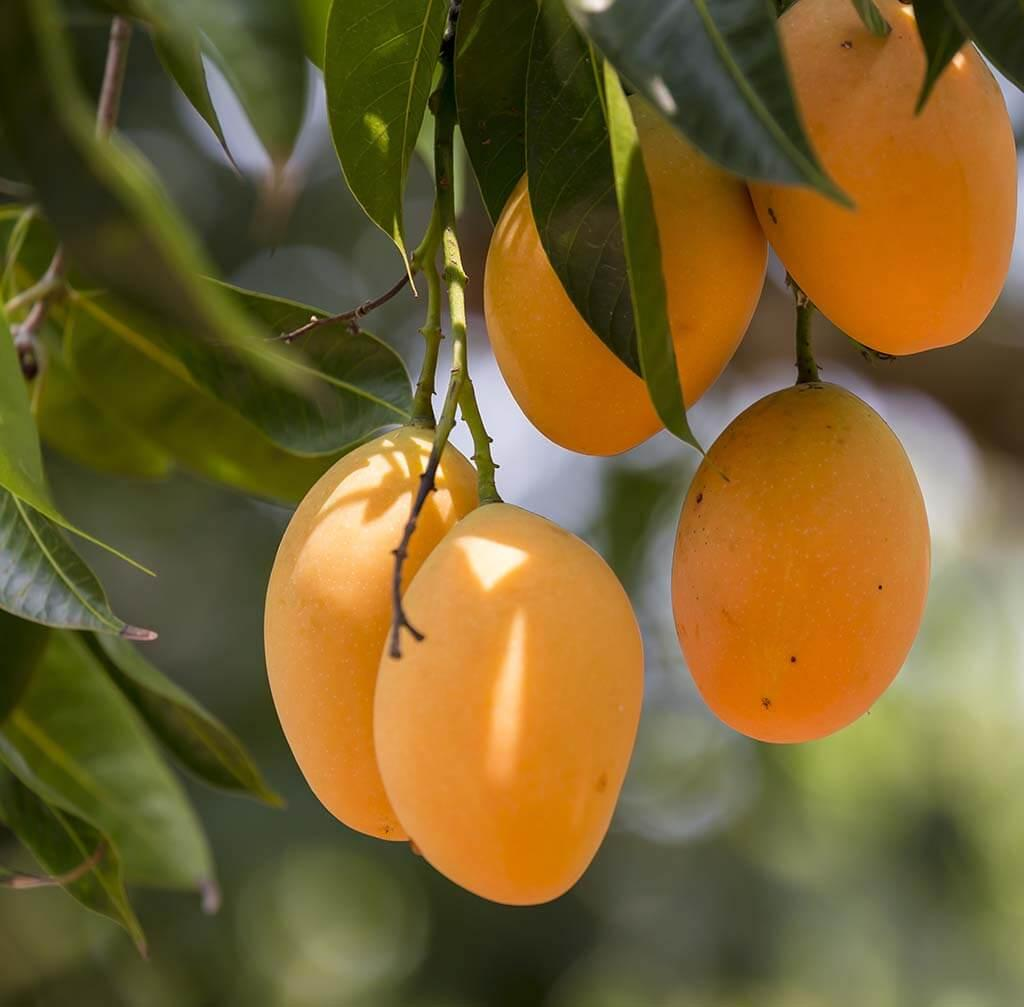mango: (374, 492, 661, 923), (664, 380, 947, 789), (492, 92, 766, 448), (750, 4, 1024, 355)
